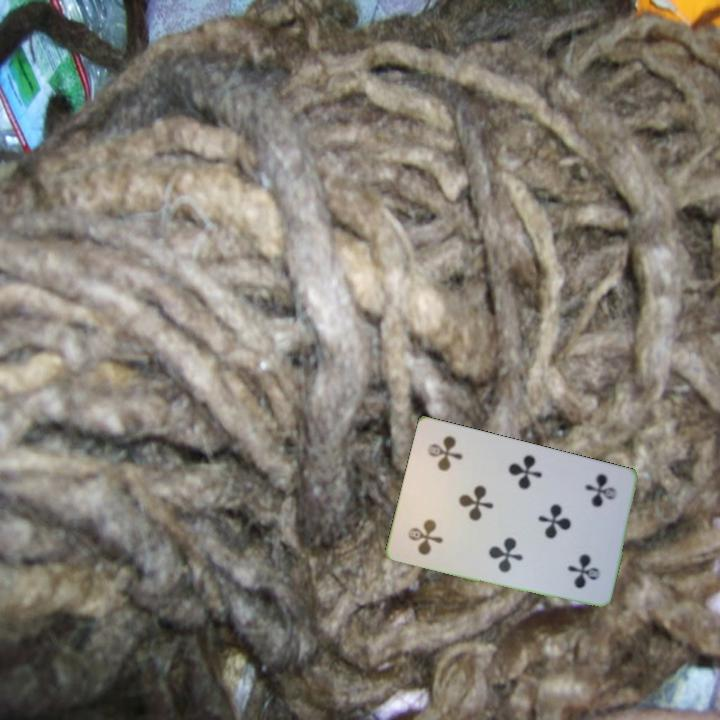c_8.png: (559, 465, 631, 543), (396, 486, 467, 564)
